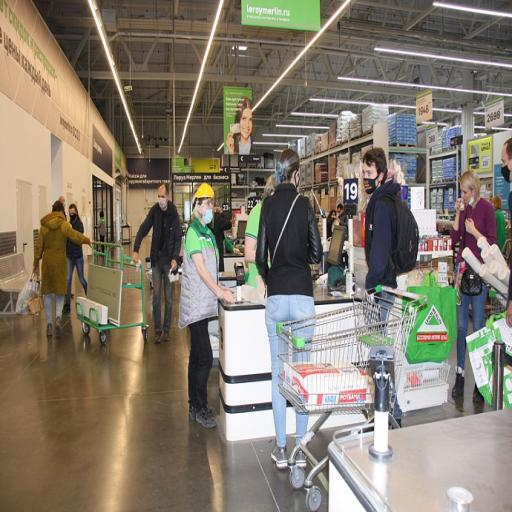shopping_cart: (276, 284, 429, 512)
